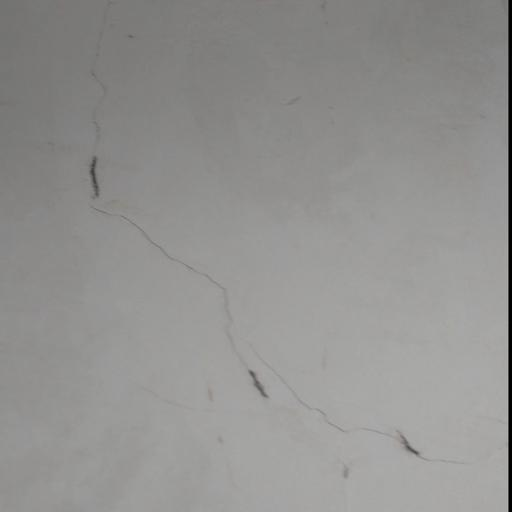minor_crack: (74, 0, 476, 471)
